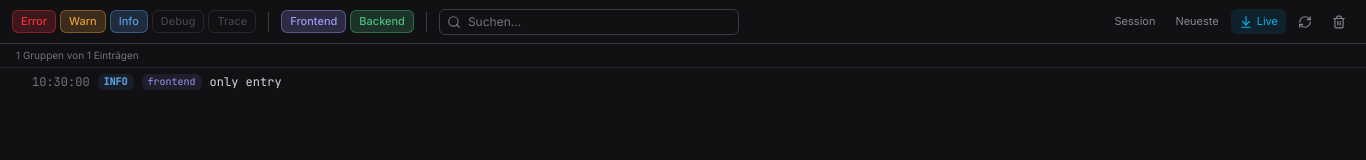
it: LogViewer — toolbar interactions › shows the empty state when search matches nothing
Type "zzz-no-match" into the field with placeholder "Suchen..." at [589, 22], box [439, 9, 739, 35]
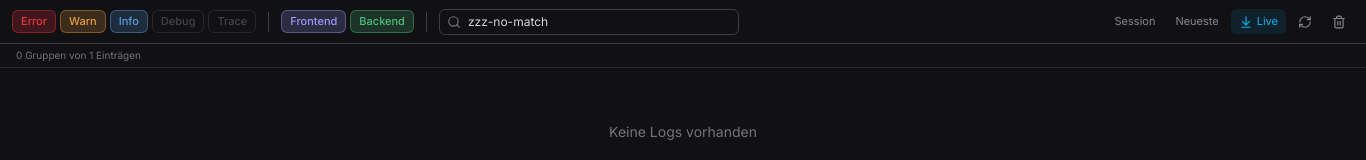
Check: the text "Keine Logs vorhanden" is shown, box [609, 123, 757, 140]
Check: the text "0 Gruppen von 1 Einträgen" is shown, box [16, 48, 141, 63]
